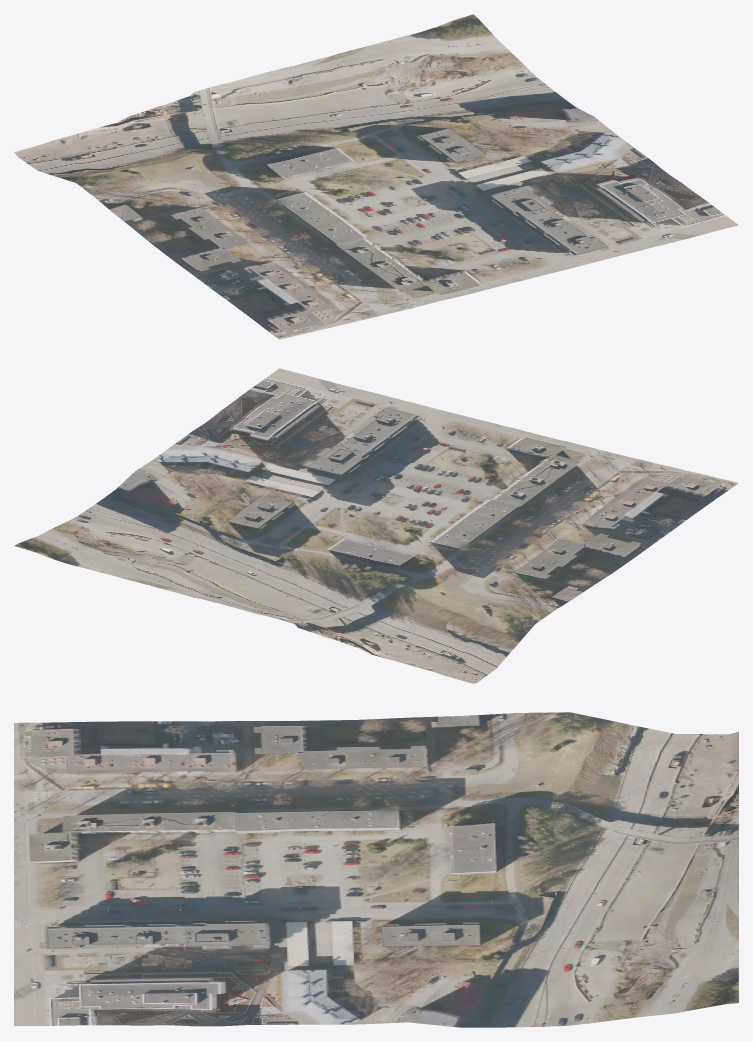
The model's file is CM_Terrain_24488206_6821841.fbx.
The picture shows the model from 3 angles, top to bottom: view 1: azimuth 30°, elevation 25°; view 2: azimuth 150°, elevation 25°; view 3: azimuth 270°, elevation 25°; orthographic projection. The views are drawn at different scales.
Parts seen in each view (by area): view 1: CM_Terrain_24488206_6821841_LOD0; view 2: CM_Terrain_24488206_6821841_LOD0; view 3: CM_Terrain_24488206_6821841_LOD0.
Part boxes in pixels (bbox=[...]): CM_Terrain_24488206_6821841_LOD0: bbox=[14, 14, 738, 339]; CM_Terrain_24488206_6821841_LOD0: bbox=[14, 368, 738, 683]; CM_Terrain_24488206_6821841_LOD0: bbox=[14, 712, 738, 1027].
Size of what is drawn, in the model's own units: 205 by 11.77 by 205.
